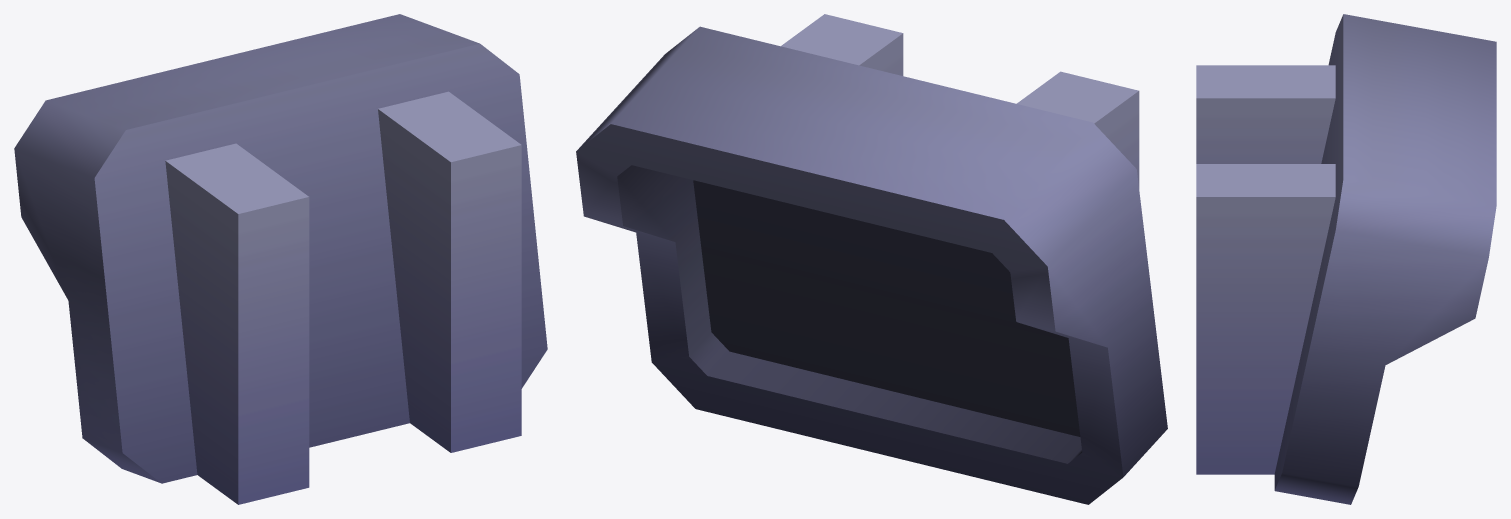
Rendered from screen-hanging-wide.glb.
3 views of the same model, side by side, from view 1: azimuth 30°, elevation 25°; view 2: azimuth 150°, elevation 25°; view 3: azimuth 270°, elevation 25° (orthographic). The views are drawn at different scales.
Visible parts, largest first — view 1: screen-hanging-wide; view 2: screen-hanging-wide; view 3: screen-hanging-wide.
Part boxes in pixels (x1,y1,x2,y2): screen-hanging-wide: (14, 14, 547, 504); screen-hanging-wide: (576, 14, 1167, 504); screen-hanging-wide: (1196, 14, 1496, 504).
Size of the model in its own units: 0.9 by 0.6914 by 0.5765.
1 material, 1 textured.
